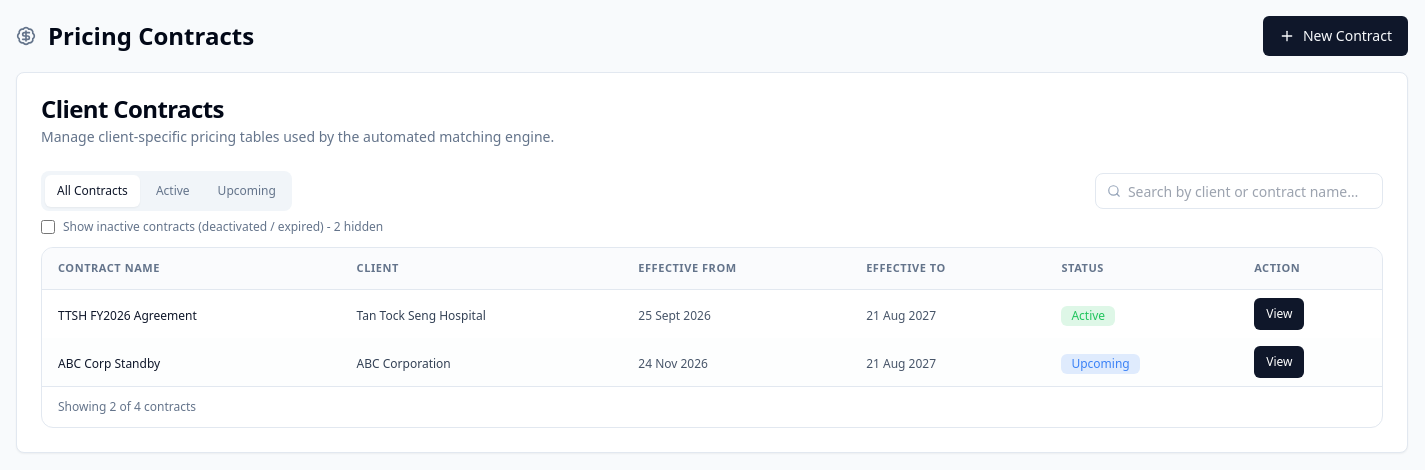
it: PricingContractPage - filtering and search › shows an explicit empty state when nothing matches
Check: the text "TTSH FY2026 Agreement" is shown, box [58,306,197,324]
Type "nonexistent" into the field with placeholder "Search by client or contract name…" at (1239, 191), box [1095,173,1383,209]
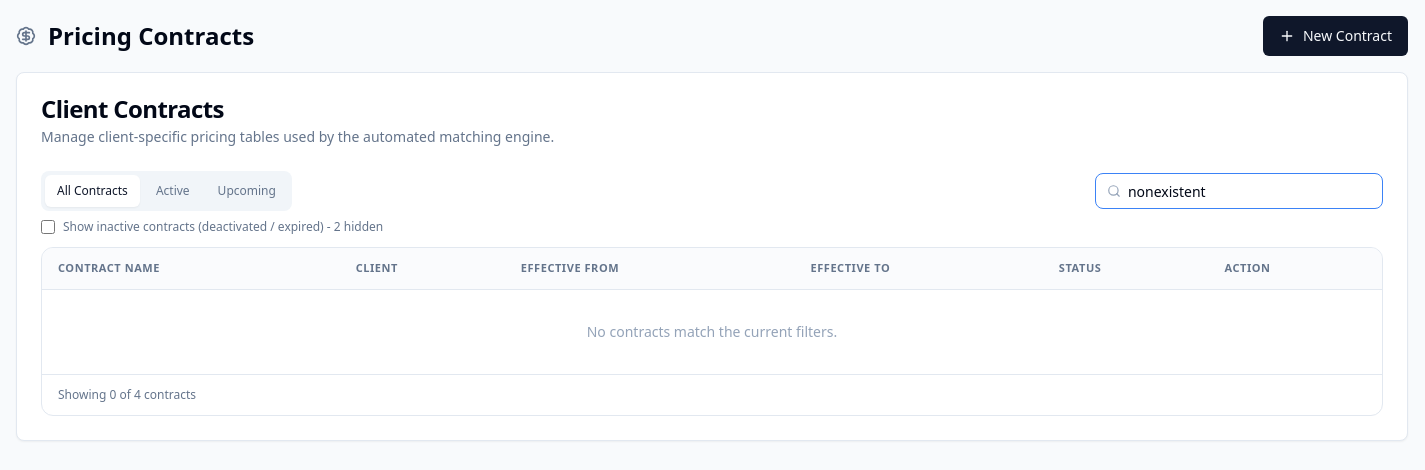
Check: the text "No contracts match the current filters." is shown, box [42,289,1382,374]
